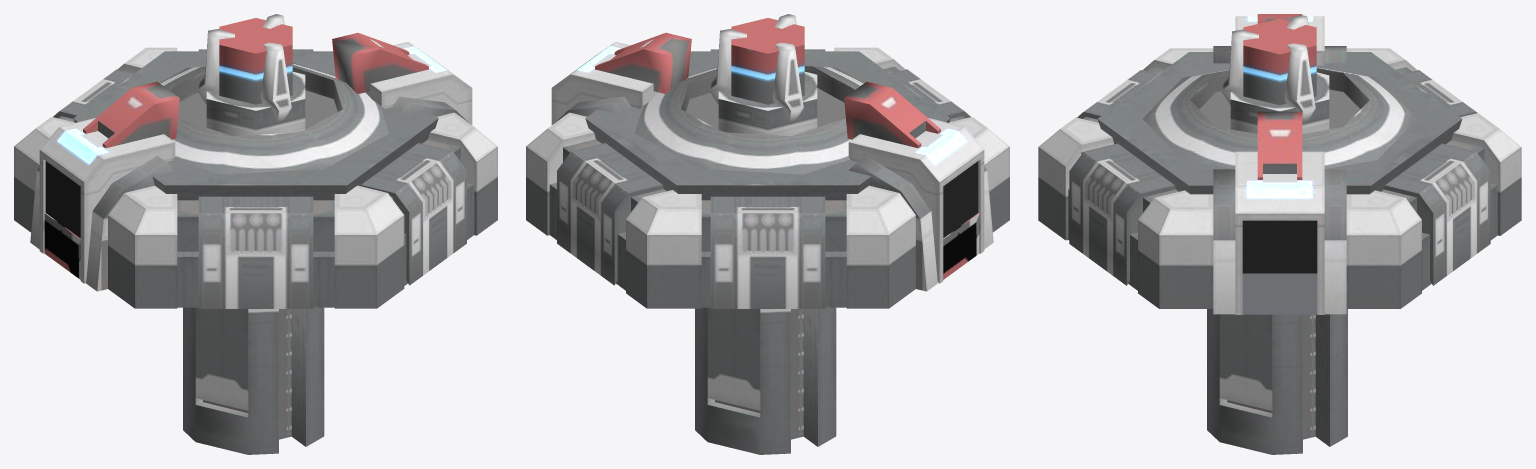
3 views of the same model, side by side, from view 1: azimuth 30°, elevation 25°; view 2: azimuth 150°, elevation 25°; view 3: azimuth 270°, elevation 25° (orthographic).
Parts seen in each view (by area): view 1: turret-disturb-lod1; view 2: turret-disturb-lod1; view 3: turret-disturb-lod1.
Boxes of the visible parts, x1,y1,x2,y2 form: turret-disturb-lod1: (14, 14, 497, 454); turret-disturb-lod1: (526, 14, 1009, 454); turret-disturb-lod1: (1038, 14, 1521, 454).
Size of the model in its own units: 6 by 5.78 by 6.48.
2 materials, 1 textured.
